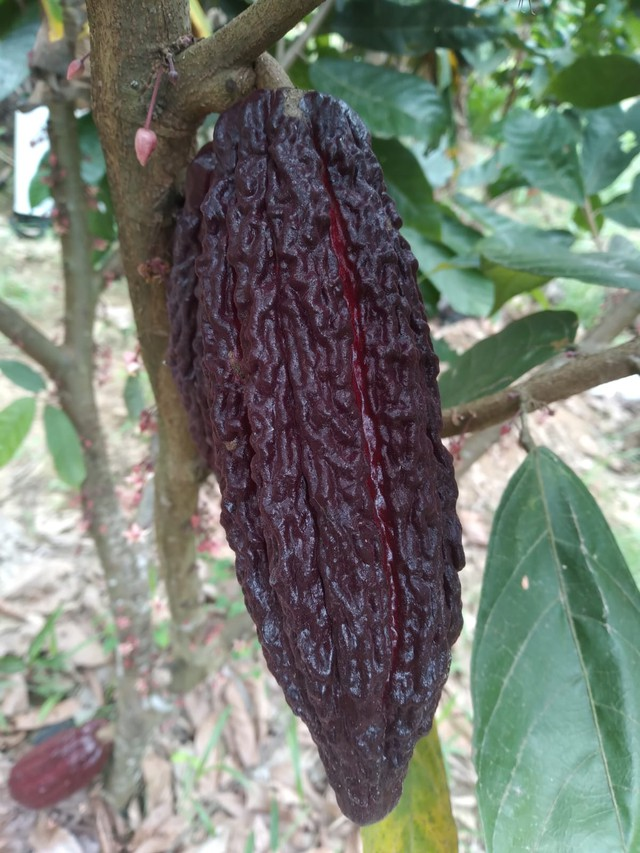Health: (159, 55, 488, 832)
